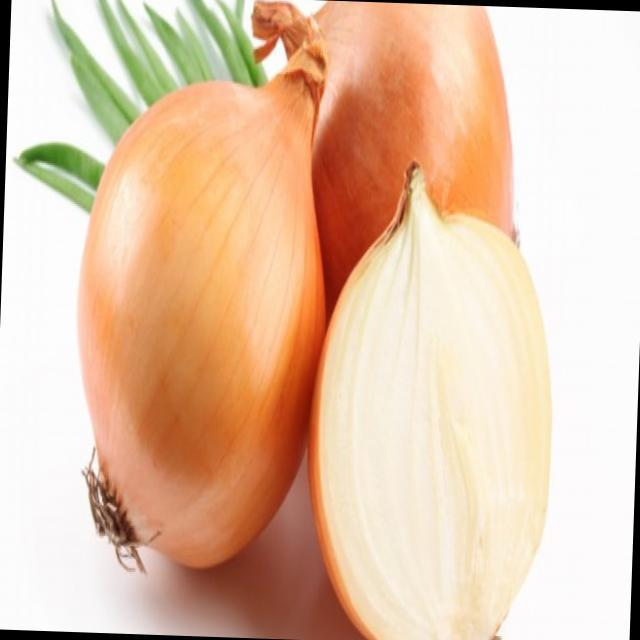ONIONS: (322, 157, 559, 640), (71, 89, 318, 552), (301, 0, 535, 268)
